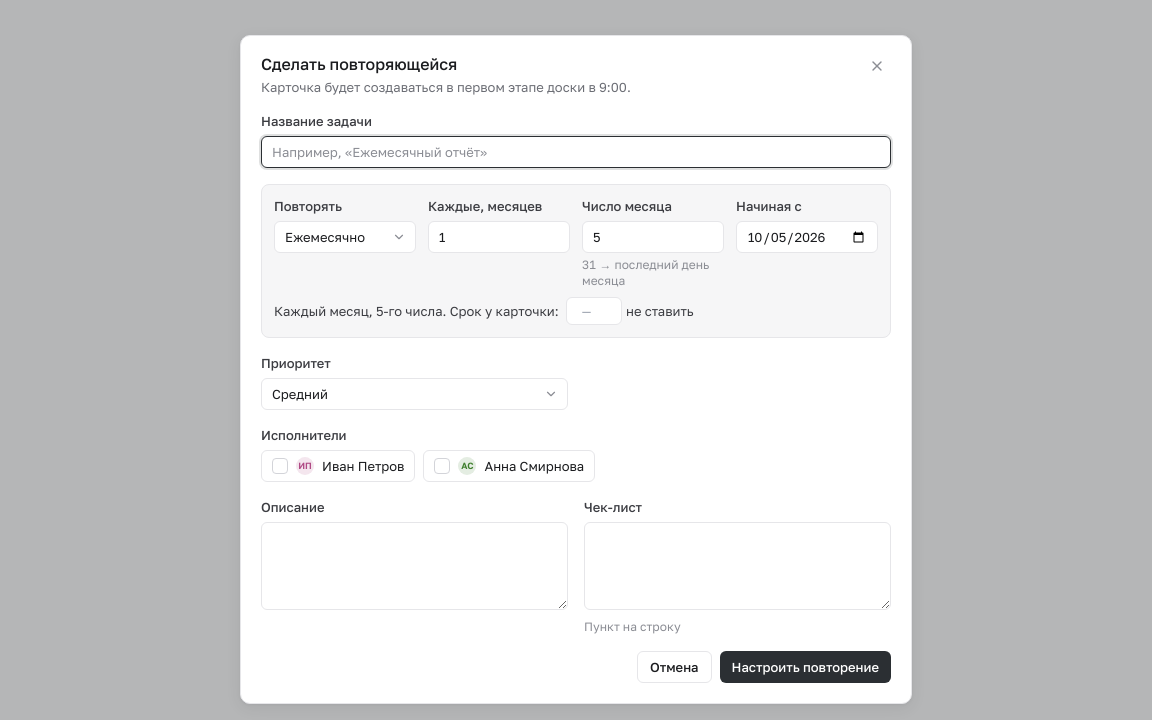
Test: recurring task dialog › needs a title, shows server errors, and can be cancelled
The width and height of the screenshot is (1152, 720).
Later steps or results of the test are not shown.
(page scrolled)
Click the button "Настроить повторение" at coordinates (805, 667), box x1=720 y1=651 x2=891 y2=683
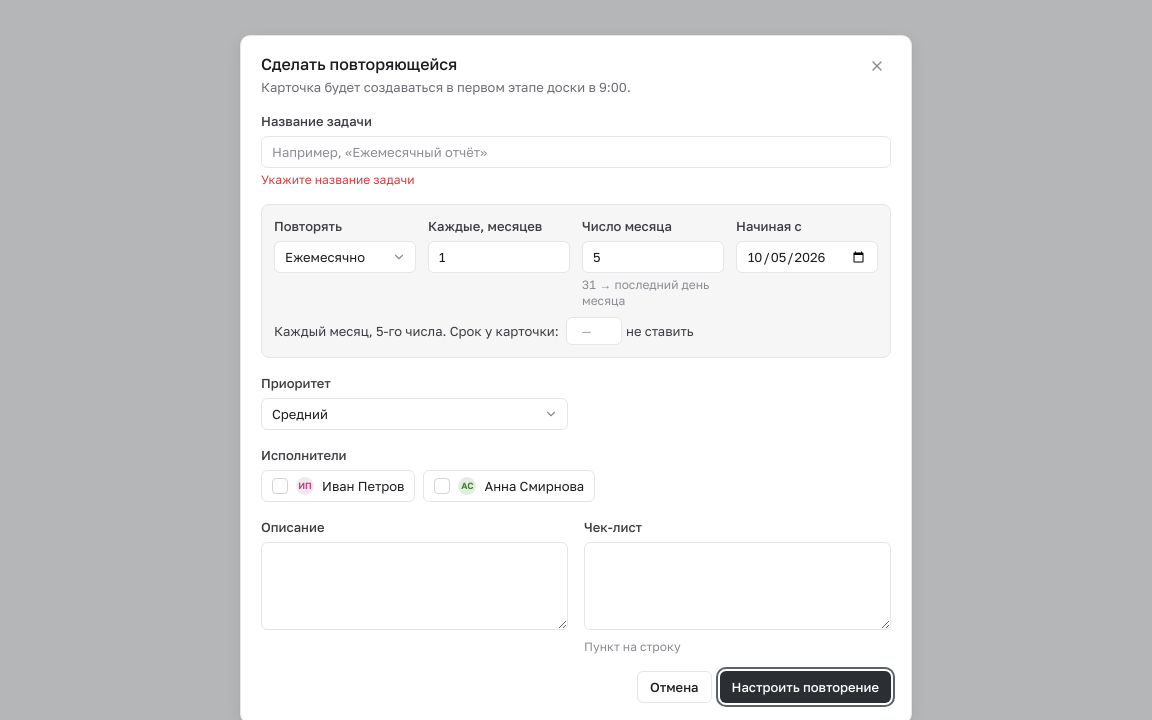
Expected: the text "Укажите название задачи" is shown, x1=261 y1=172 x2=414 y2=187
Type "Отчёт" into the field labelled "Название задачи" at coordinates (576, 152), box x1=261 y1=136 x2=891 y2=168
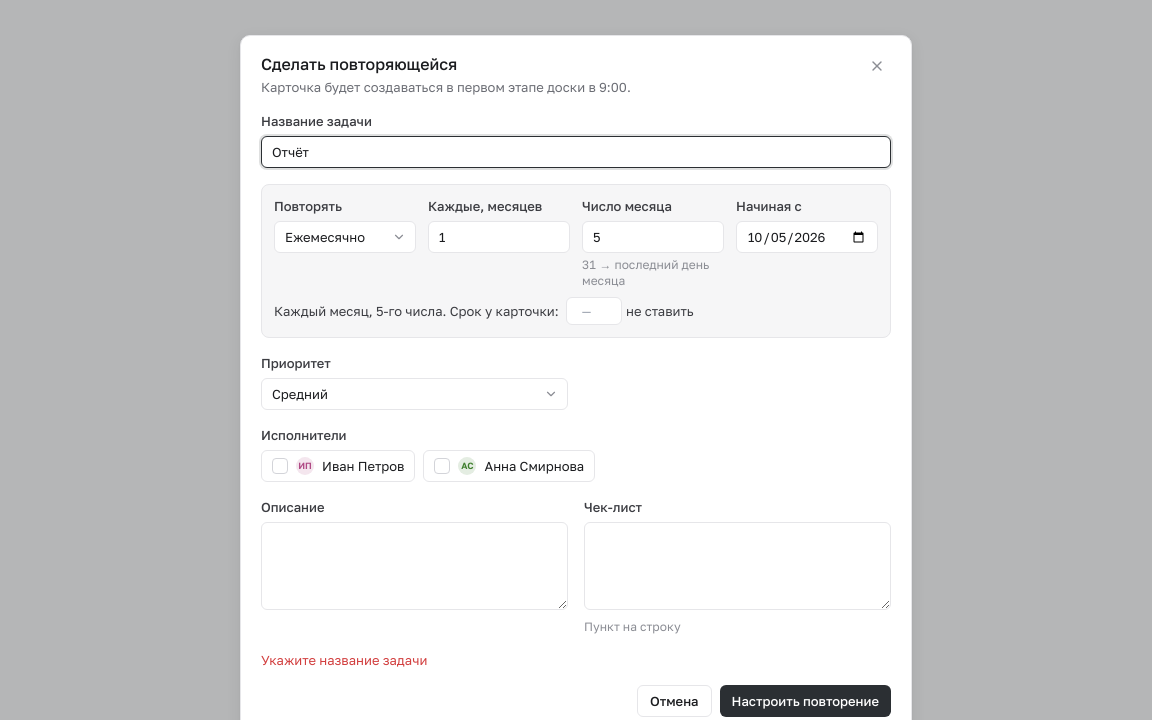
Click the button "Настроить повторение" at coordinates (805, 701), box x1=720 y1=685 x2=891 y2=717
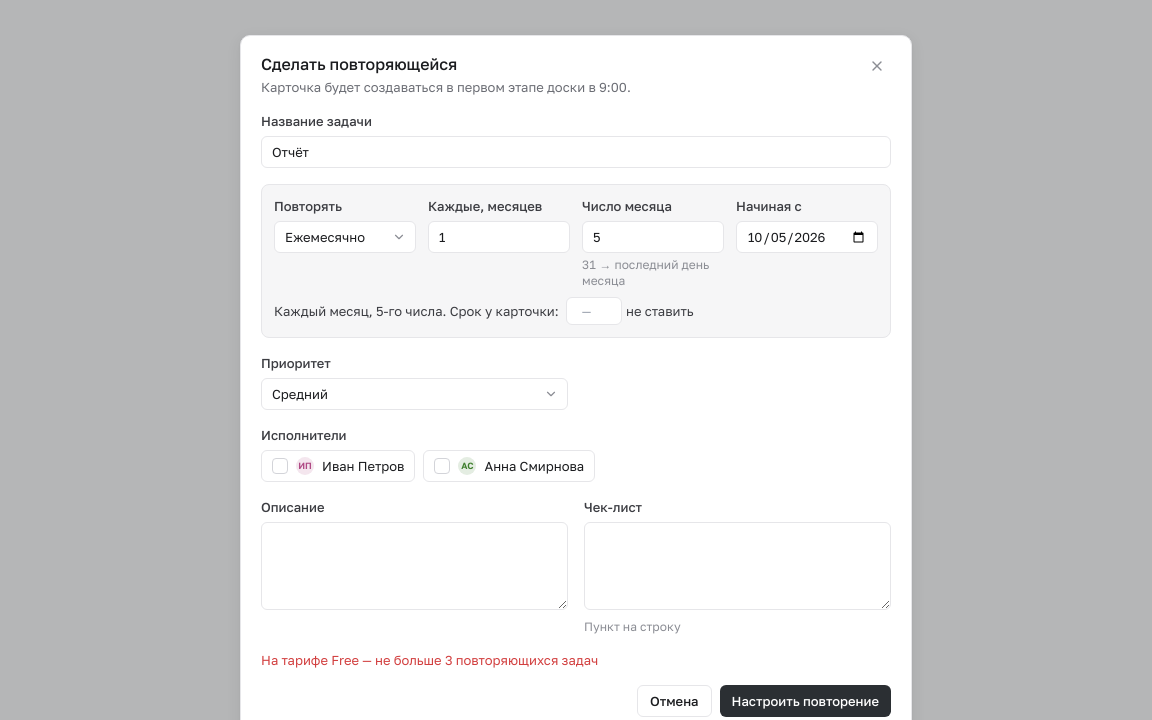
Expected: the text "На тарифе Free — не больше 3 повторяющихся задач" is shown, x1=261 y1=652 x2=598 y2=668
